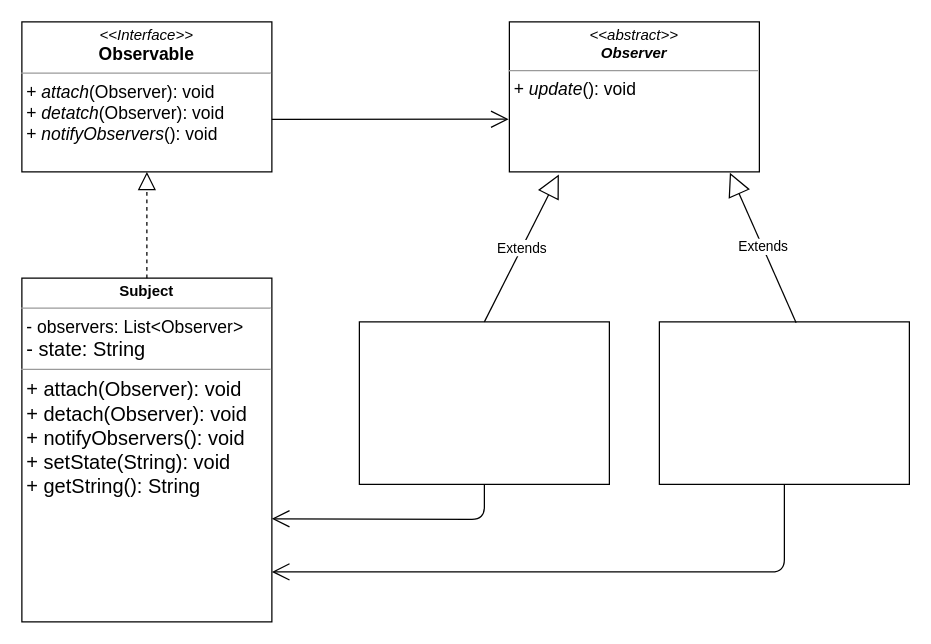
The diagram is 931 pixels wide and 644 high, and some of its shapes have lost their labels. Here are the shapes that lost their labels. From the top down, the centre of each, then its label:
[483,402]: Subscriber - name: String - s: Subject + update (): void
[783,402]: Observer_2 - name: String - s: Subject + update (): void
